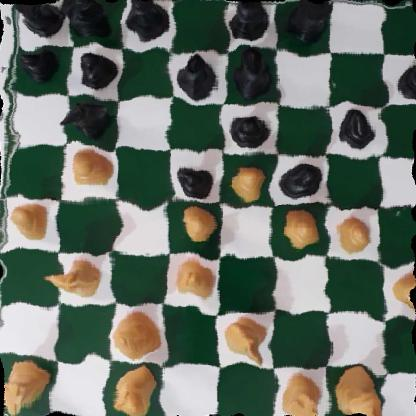black-bishop: (233, 50, 275, 101), (178, 53, 222, 97)
black-king: (229, 0, 269, 49)
black-knight: (60, 95, 113, 141), (59, 0, 108, 44)
black-pawn: (226, 111, 268, 151), (172, 160, 215, 199), (282, 160, 321, 201), (334, 109, 376, 147), (18, 47, 61, 84), (76, 50, 112, 90), (395, 60, 416, 101)
black-queen: (121, 0, 170, 44)
black-rook: (11, 0, 69, 39), (284, 0, 330, 48)
white-bishop: (111, 365, 160, 415), (174, 255, 216, 302)
white-king: (333, 370, 389, 416)
white-knight: (46, 254, 103, 296), (224, 317, 269, 367)
white-pawn: (7, 200, 54, 240), (68, 149, 111, 191), (279, 207, 320, 249), (333, 211, 369, 256), (229, 161, 267, 202), (180, 205, 216, 245), (394, 268, 416, 310)
white-queen: (117, 303, 157, 361)
white-rook: (0, 361, 55, 412), (279, 371, 326, 416)
